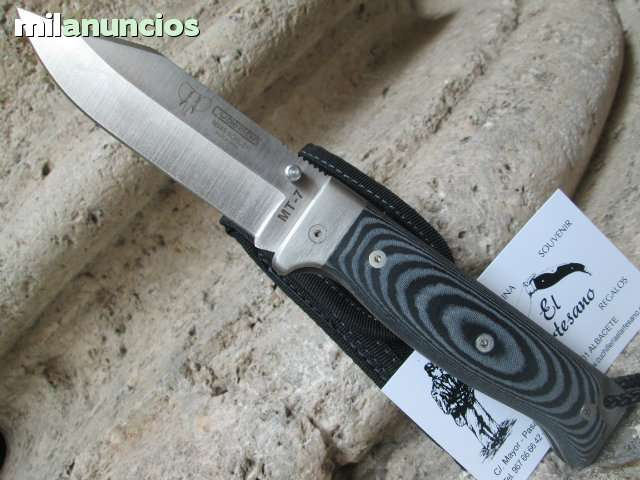knife: (7, 2, 400, 299)
